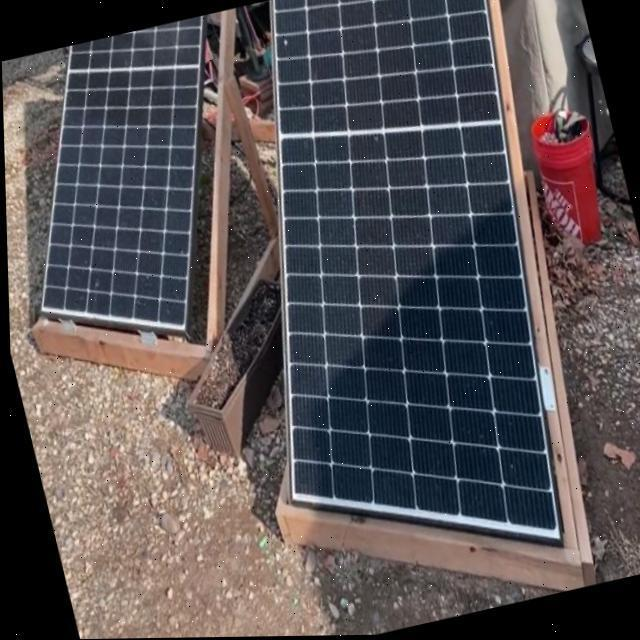Normal Solar Panel: (178, 0, 615, 595), (1, 16, 270, 359)
